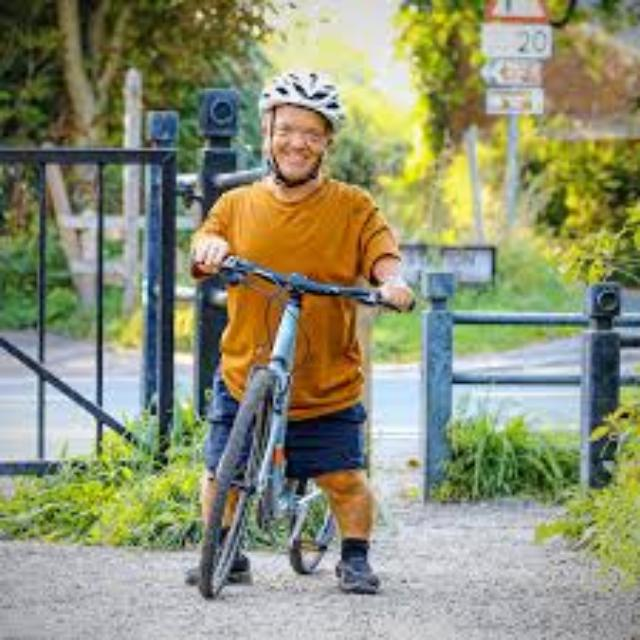obstacle: (148, 228, 404, 610)
